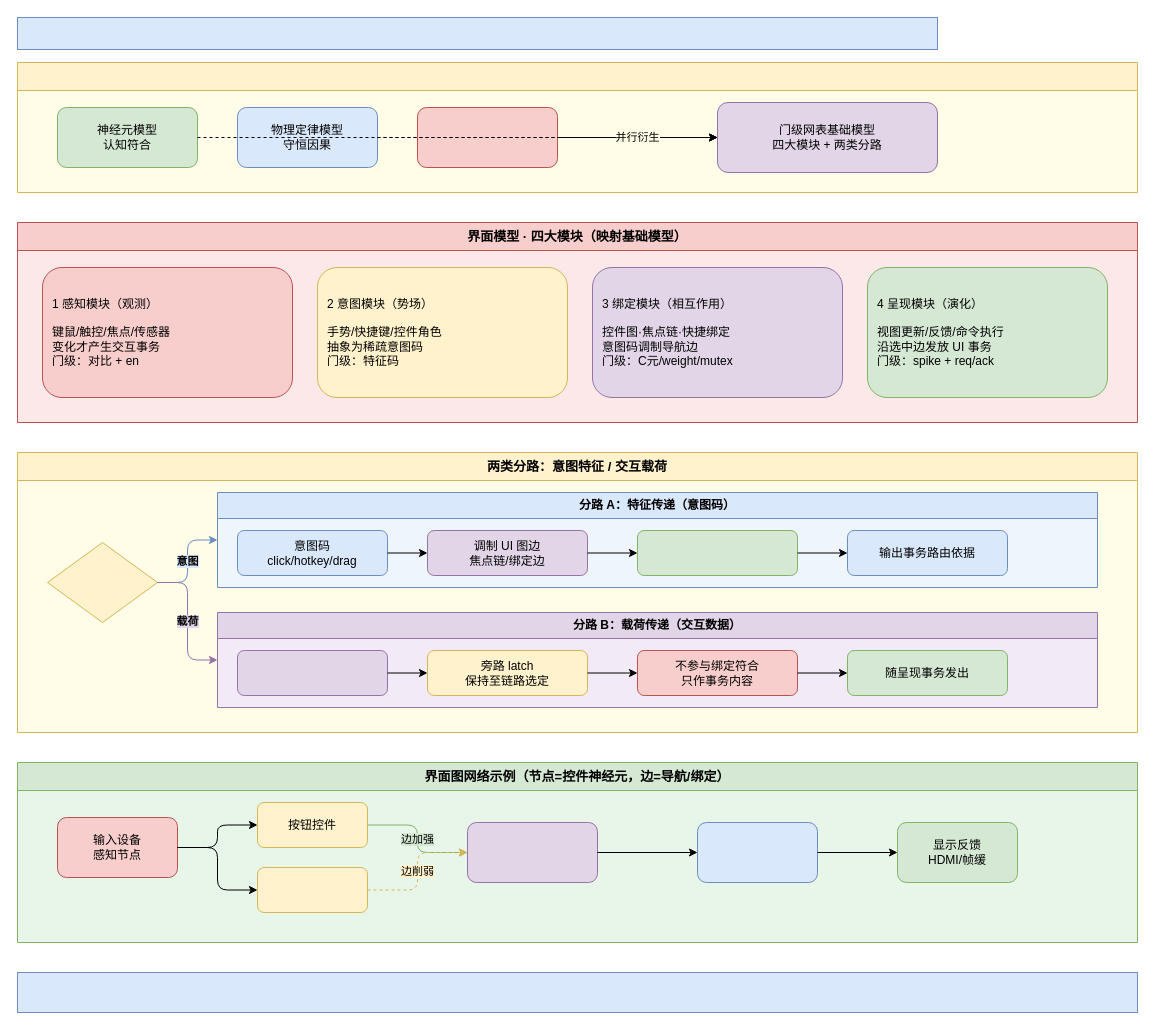
This 1155x1030 diagram has some shape labels left out. Here are the shapes that lost their labels. From the top down, the box of each, then its label:
(16, 16, 938, 50): 界面模型（与神经元 / 物理定律平级）：人机交互映射到门级事务图网络
(416, 106, 558, 168): 界面模型 人机交互
(16, 62, 1138, 192): 平级衍生（不继承）
(636, 530, 798, 576): 决定命令链路 哪个控件响应
(46, 542, 158, 622): 意图模块 分叉
(236, 650, 388, 696): 载荷 坐标/文本/文件
(466, 822, 598, 882): 绑定/路由节点 意图符合
(696, 822, 818, 882): 命令执行 呈现节点
(256, 866, 368, 912): 文本框控件
(16, 972, 1138, 1012): 原则：界面=控件图网络；意图码改边决定谁响应；坐标/文本等作载荷；无时钟 req/ack 完成交互事务，可与现有 GUI/HDMI 路径对接
